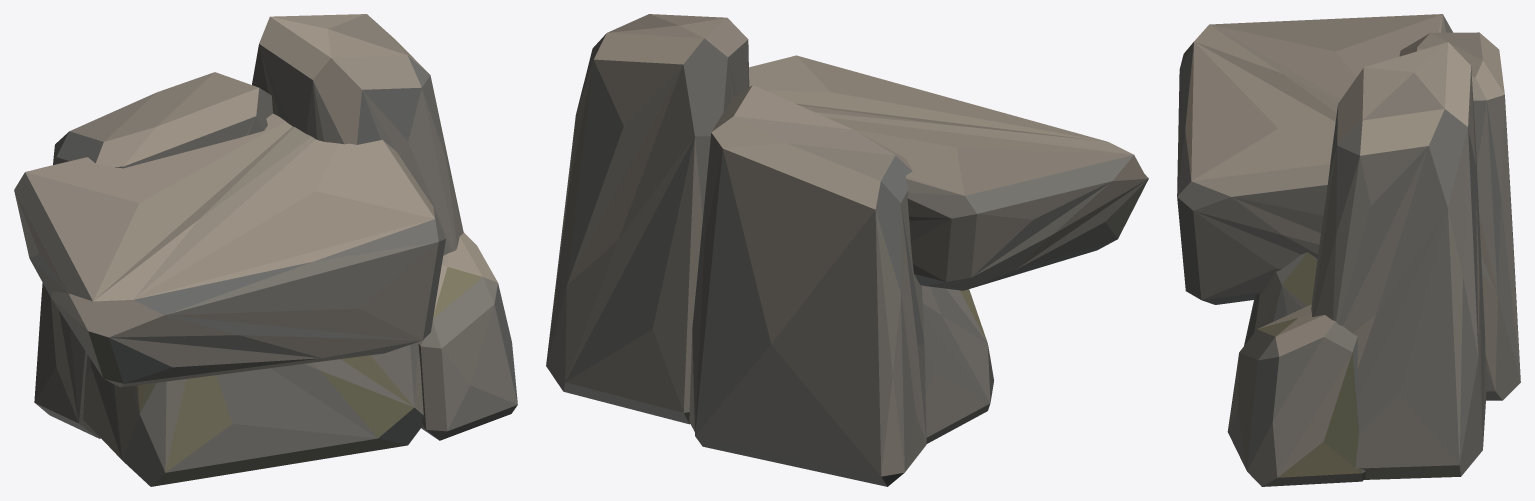
File: verdant-cliff-ledge.glb
3 renders of one model, left to right at view 1: azimuth 30°, elevation 25°; view 2: azimuth 150°, elevation 25°; view 3: azimuth 270°, elevation 25°, orthographic. The views are drawn at different scales.
Visible parts, largest first — view 1: verdant-cliff-ledge; view 2: verdant-cliff-ledge; view 3: verdant-cliff-ledge.
Part boxes in pixels (bbox=[...]): verdant-cliff-ledge: bbox=[14, 14, 517, 486]; verdant-cliff-ledge: bbox=[546, 14, 1148, 486]; verdant-cliff-ledge: bbox=[1177, 14, 1520, 486].
Size of the model in its own units: 3.28 by 2.47 by 2.07.
Materials: 1 (1 with a texture image).
